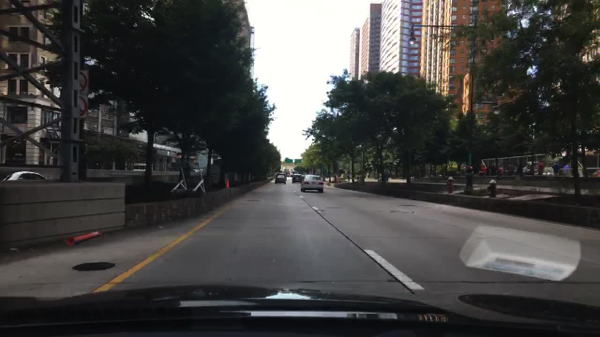car: (0, 170, 47, 183), (300, 175, 324, 193), (274, 175, 287, 185), (292, 174, 302, 184), (275, 173, 287, 181), (192, 168, 203, 174), (289, 173, 294, 179), (286, 173, 291, 178)
person: (551, 161, 560, 175), (537, 160, 544, 175), (498, 164, 503, 176), (480, 164, 485, 175)
traffic sign: (77, 95, 89, 119), (78, 69, 89, 93), (285, 159, 293, 163), (294, 160, 301, 163)
truck: (133, 163, 152, 172)
